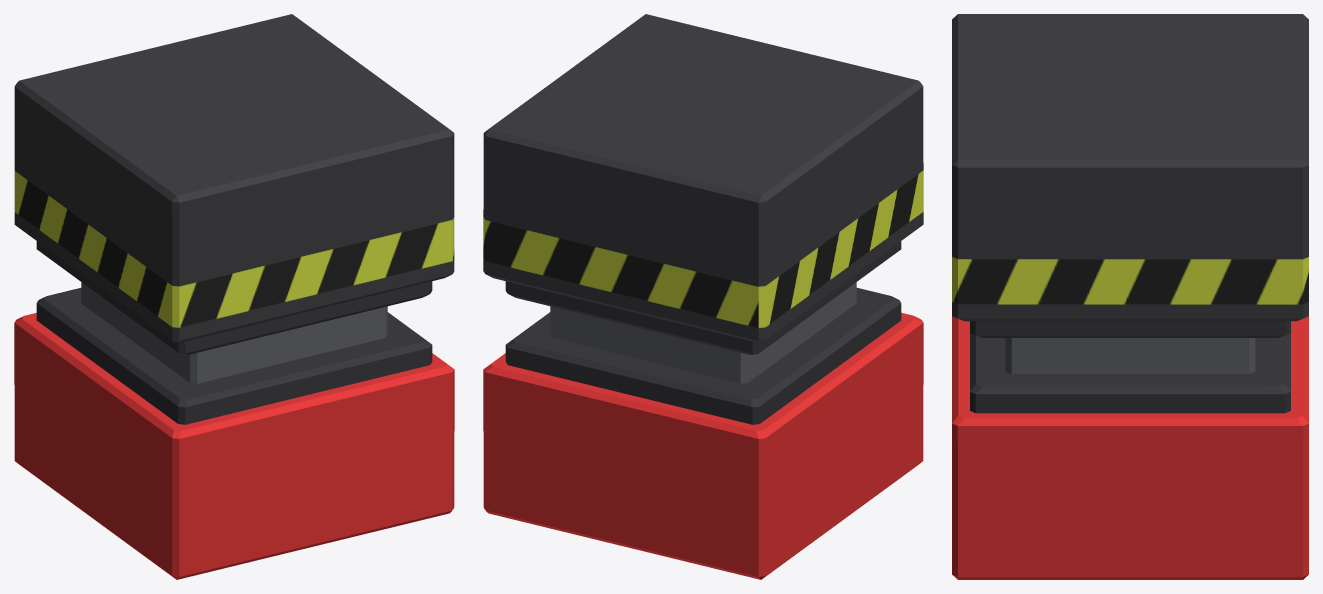
The model's file is BgMD_Pressmachine_01.fbx.
The picture shows the model from 3 angles, left to right: view 1: azimuth 30°, elevation 25°; view 2: azimuth 150°, elevation 25°; view 3: azimuth 270°, elevation 25°; orthographic projection. The views are drawn at different scales.
Visible parts, largest first — view 1: BgMD_Pressmachine; view 2: BgMD_Pressmachine; view 3: BgMD_Pressmachine.
Boxes of the visible parts, x1,y1,x2,y2 form: BgMD_Pressmachine: [14, 14, 454, 579]; BgMD_Pressmachine: [483, 14, 923, 579]; BgMD_Pressmachine: [952, 14, 1308, 579].
Bounding box in the file's own units: 100 × 130 × 100.
